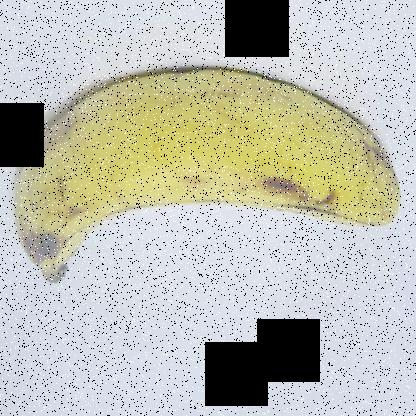ripe: (5, 66, 412, 302)
